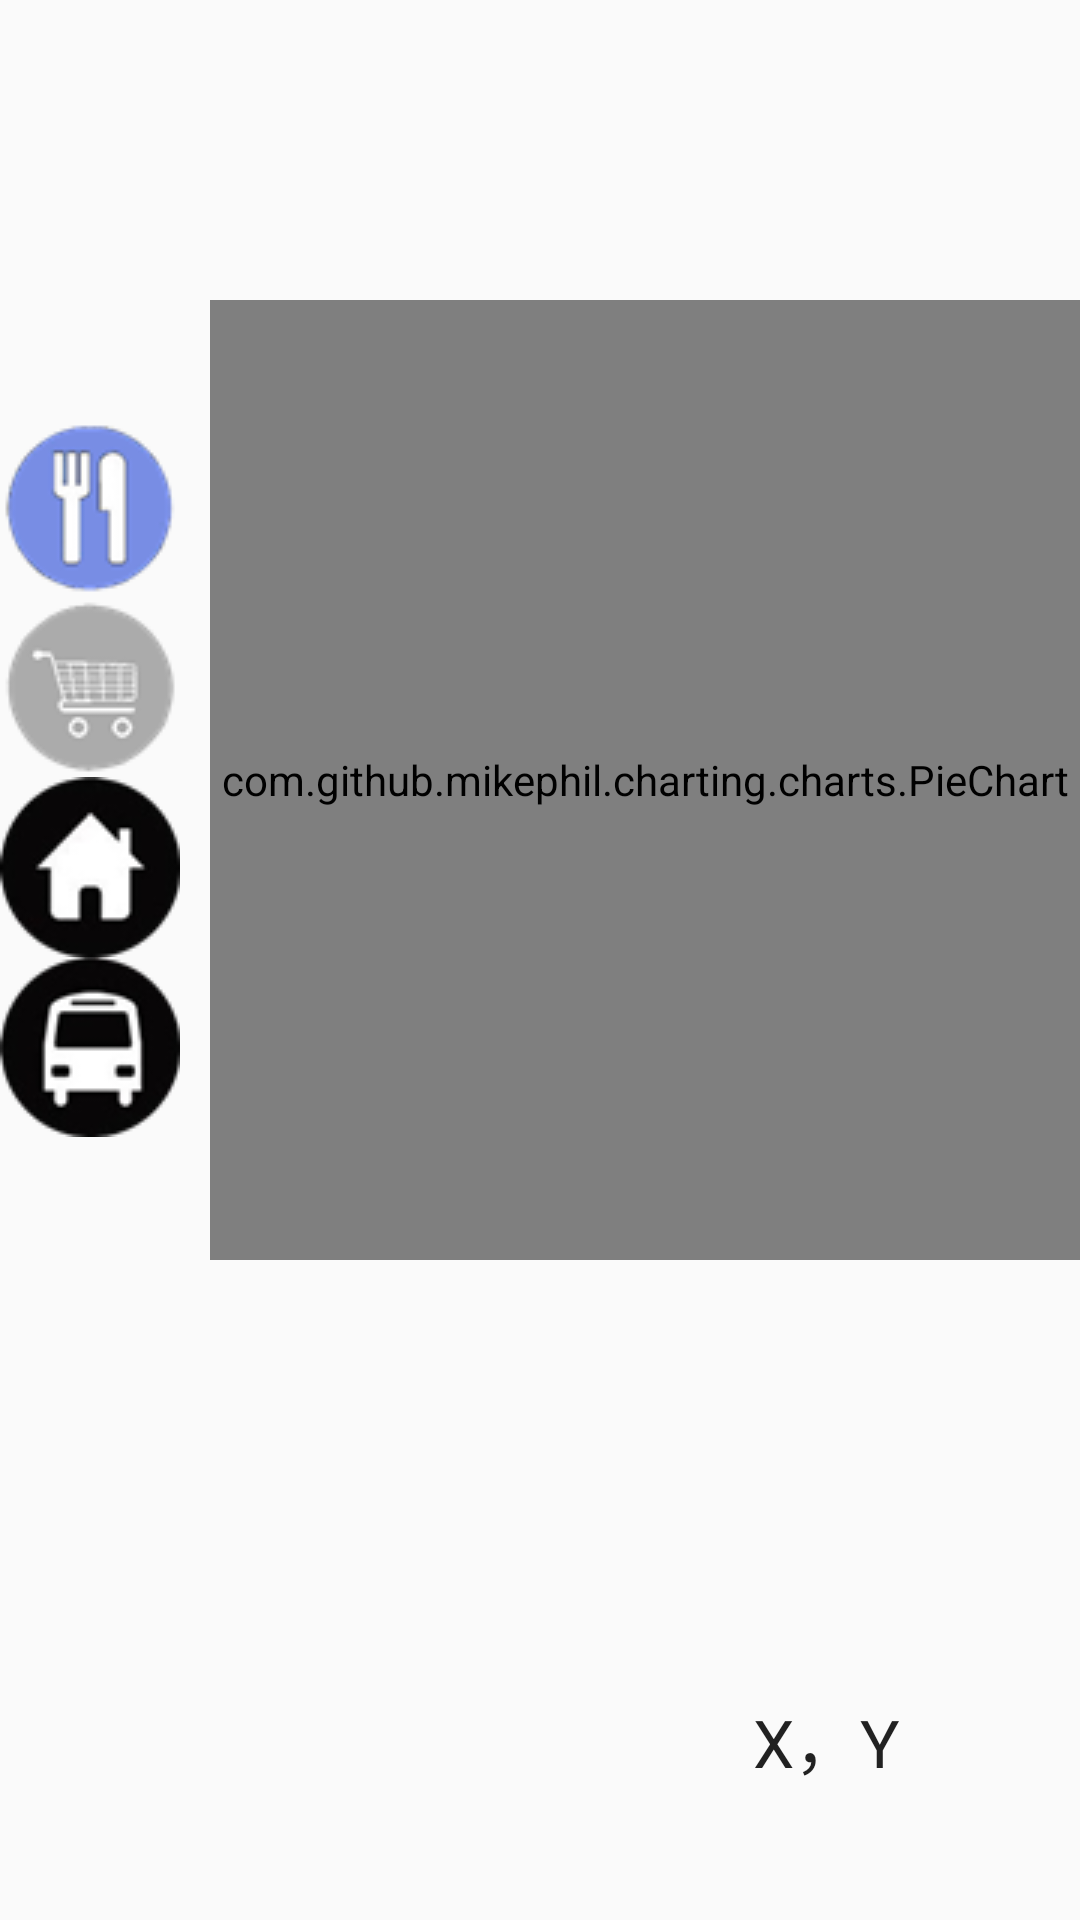

Screen size 1080×1920. Icon name, then its center in pixels as (x,y):
food: (89,508)
live: (90,867)
shopping: (91,687)
